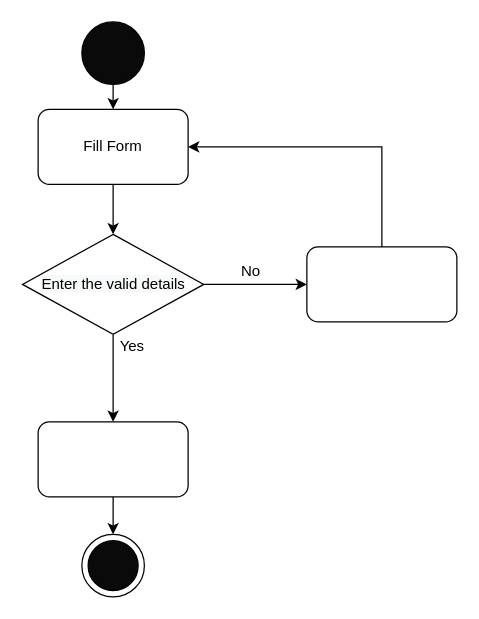
This 479x619 diagram has some shape labels left out. Here are the shapes that lost their labels. From the top down, the centre of each, then its label:
point 381,284: Show Error
point 112,459: Register Successfully
